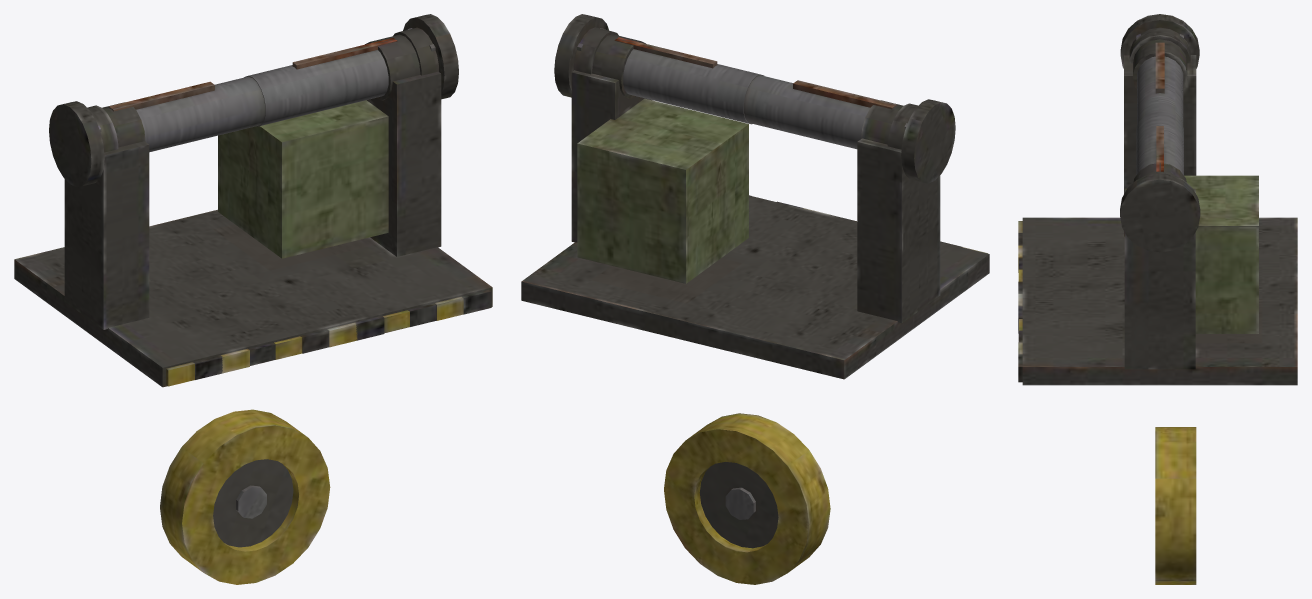
The model's file is feGrinder.glb.
3 renders of one model, left to right at view 1: azimuth 30°, elevation 25°; view 2: azimuth 150°, elevation 25°; view 3: azimuth 270°, elevation 25°, orthographic. The views are drawn at different scales.
Visible parts, largest first — view 1: feGrinder_Base, FeSpin_DriveShaft, FeSpin_x6_InlineWheel; view 2: feGrinder_Base, FeSpin_DriveShaft, FeSpin_x6_InlineWheel; view 3: feGrinder_Base, FeSpin_DriveShaft.
Part boxes in pixels (left/top/right/bottom): feGrinder_Base: left=14, top=34, right=492, bottom=584; FeSpin_DriveShaft: left=49, top=14, right=458, bottom=187; FeSpin_x6_InlineWheel: left=213, top=459, right=293, bottom=547; feGrinder_Base: left=521, top=34, right=989, bottom=584; FeSpin_DriveShaft: left=554, top=14, right=955, bottom=183; FeSpin_x6_InlineWheel: left=699, top=462, right=778, bottom=548; feGrinder_Base: left=1018, top=39, right=1297, bottom=584; FeSpin_DriveShaft: left=1120, top=14, right=1200, bottom=252.
Size of the model in its own units: 1 by 1.35 by 0.7121.
Materials: 1 (1 with a texture image).
